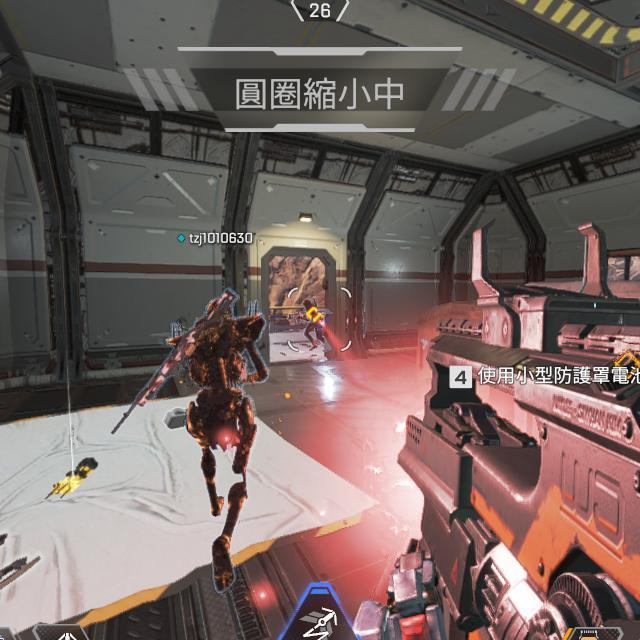avatar: (164, 294, 268, 594), (300, 298, 327, 352)
object: (305, 305, 323, 325)
